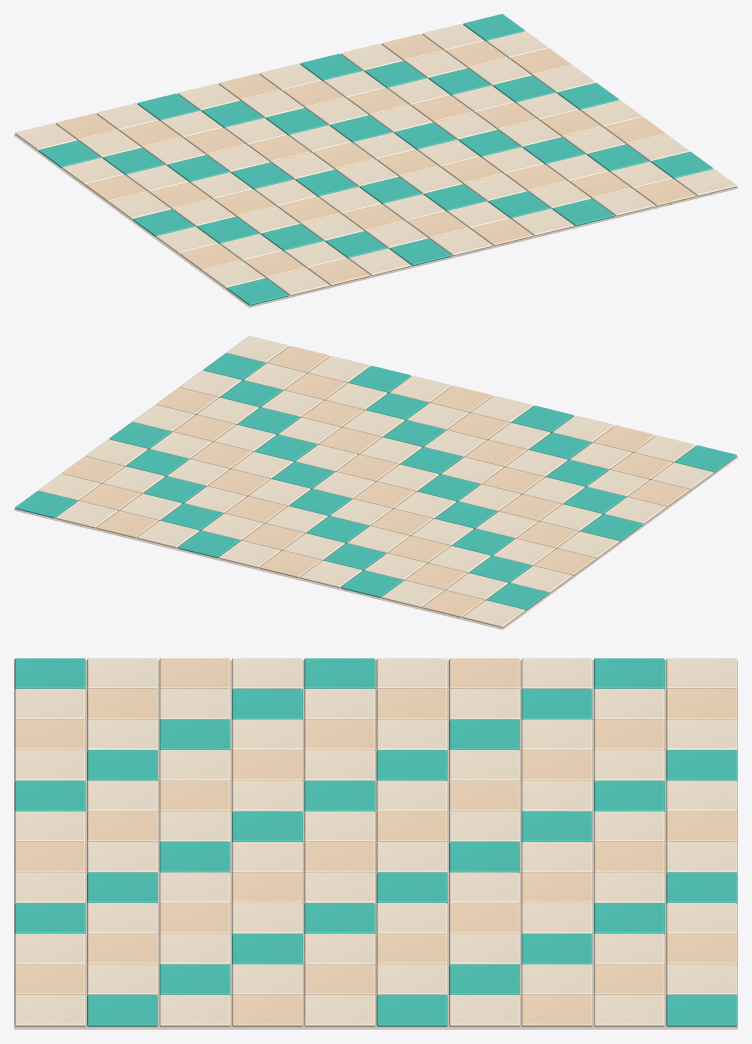
File: BackRoomFloor.fbx
3 views of the same model, one above another, from view 1: azimuth 30°, elevation 25°; view 2: azimuth 150°, elevation 25°; view 3: azimuth 270°, elevation 25° (orthographic). The views are drawn at different scales.
Parts seen in each view (by area): view 1: BackRoomFloor mesh; view 2: BackRoomFloor mesh; view 3: BackRoomFloor mesh.
Part boxes in pixels (x1,y1,x2,y2): BackRoomFloor mesh: (14, 14, 737, 307); BackRoomFloor mesh: (14, 336, 737, 629); BackRoomFloor mesh: (14, 658, 737, 1029).
Size of the model in its own units: 7.5 by 0.05 by 6.25.
